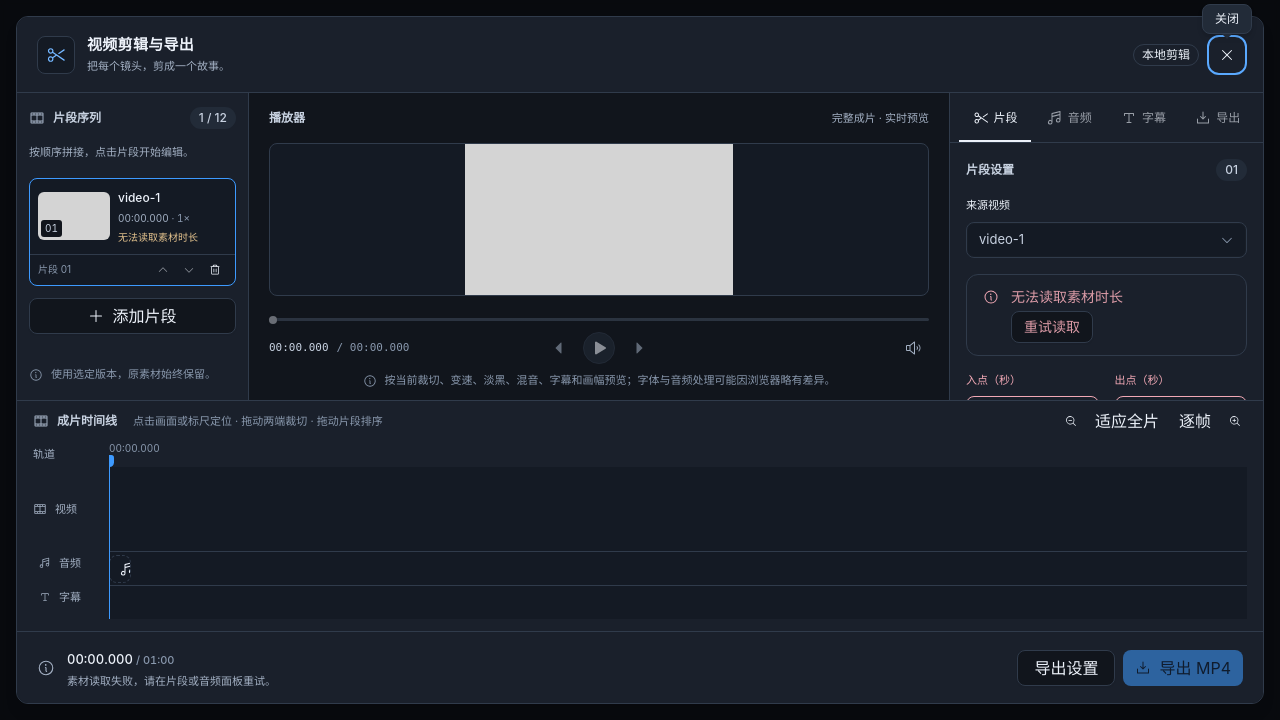
Test: VideoEditDialog › retries source metadata without discarding clip edits
Check: the message "无法读取素材时长 重试读取" is shown, box [966, 274, 1247, 356]
Click the tab "导出".
click(1218, 118)  # box [1181, 94, 1255, 142]
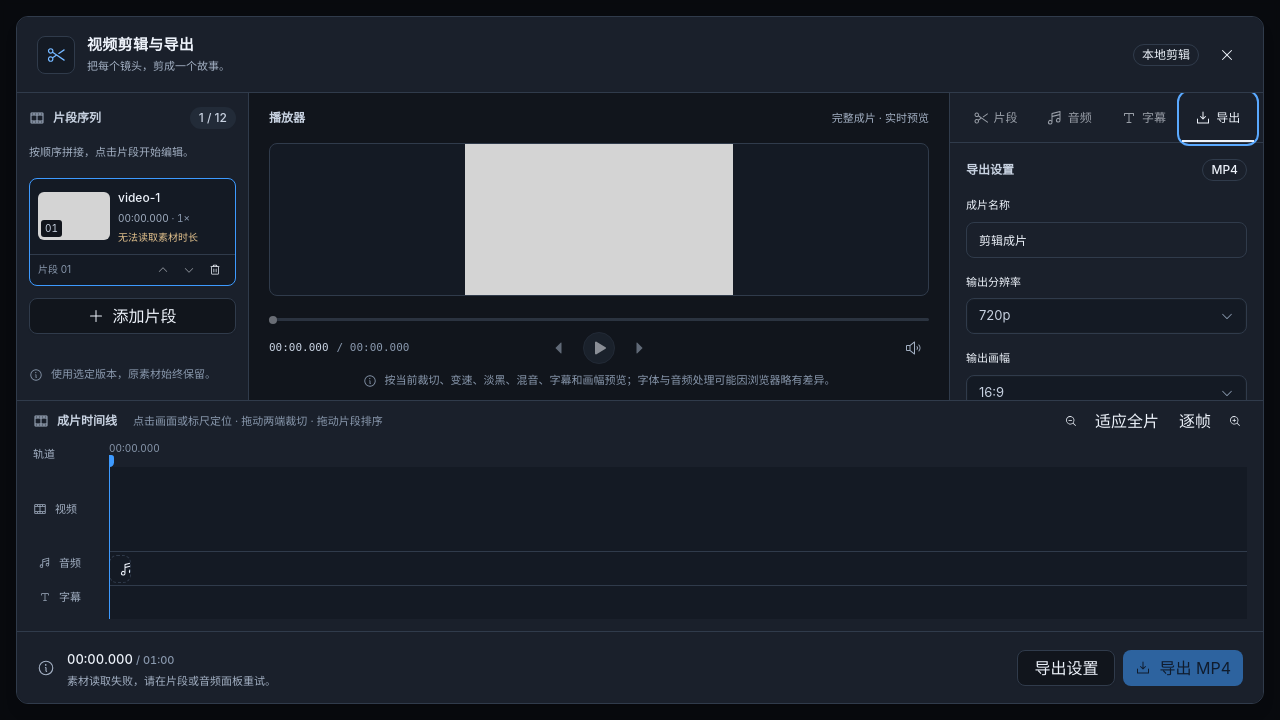
Replace the text in the field labelled "成片名称" with "保留的草稿" at (1106, 240), box [966, 222, 1247, 258]
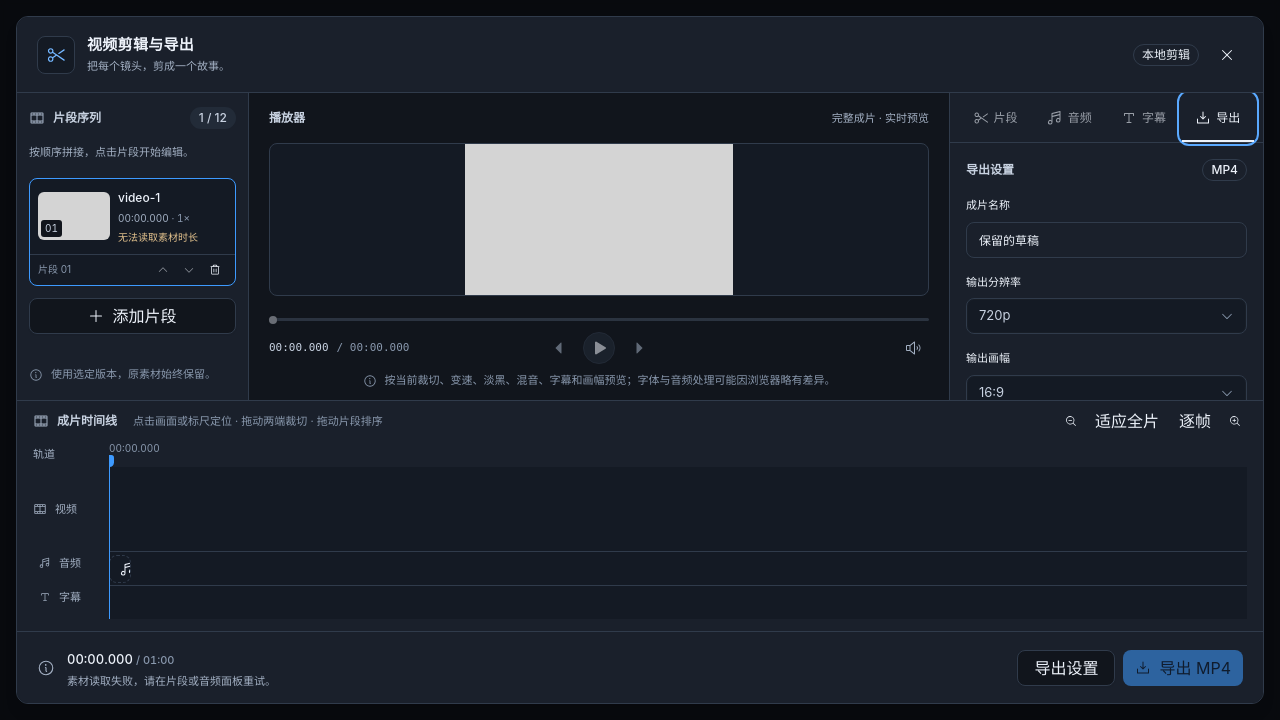
Click the tab "片段".
click(995, 118)  # box [958, 94, 1032, 142]
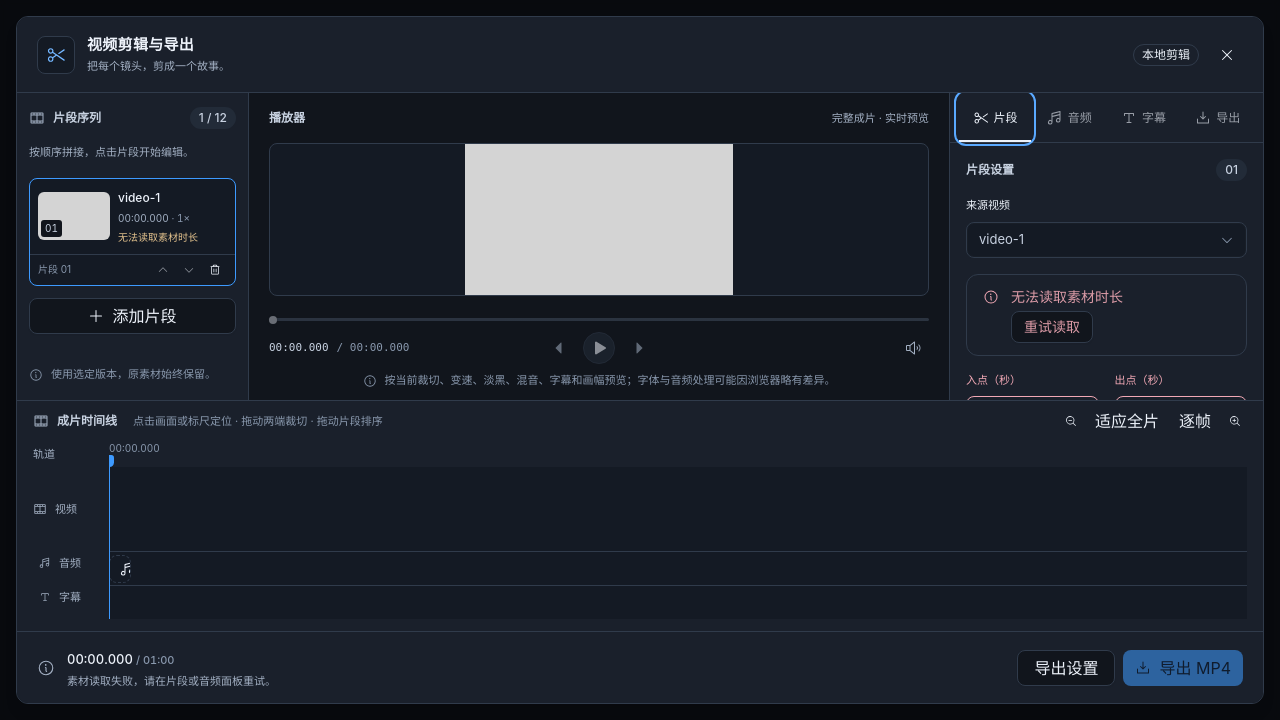
Click the button "重试读取".
click(1052, 326)  # box [1011, 310, 1093, 342]
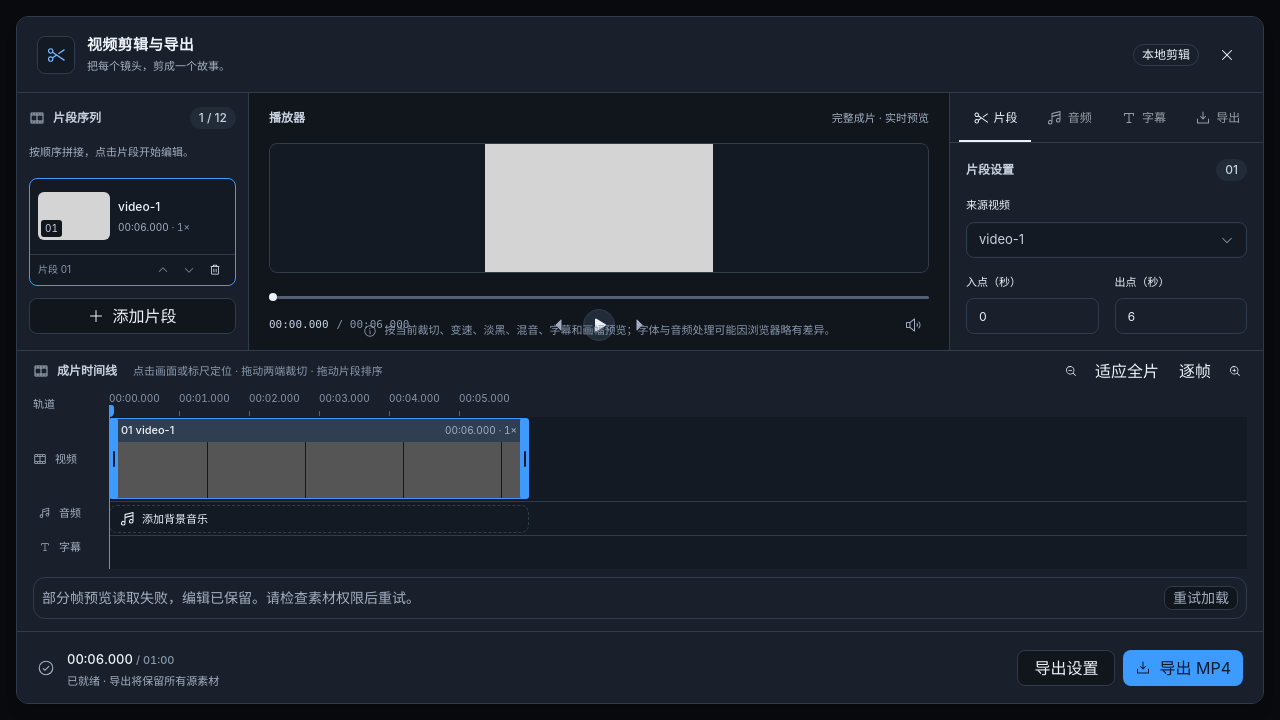
Check: the button "导出 MP4" is enabled, box [1124, 650, 1243, 686]
Click the tab "导出".
click(1218, 118)  # box [1181, 94, 1255, 142]
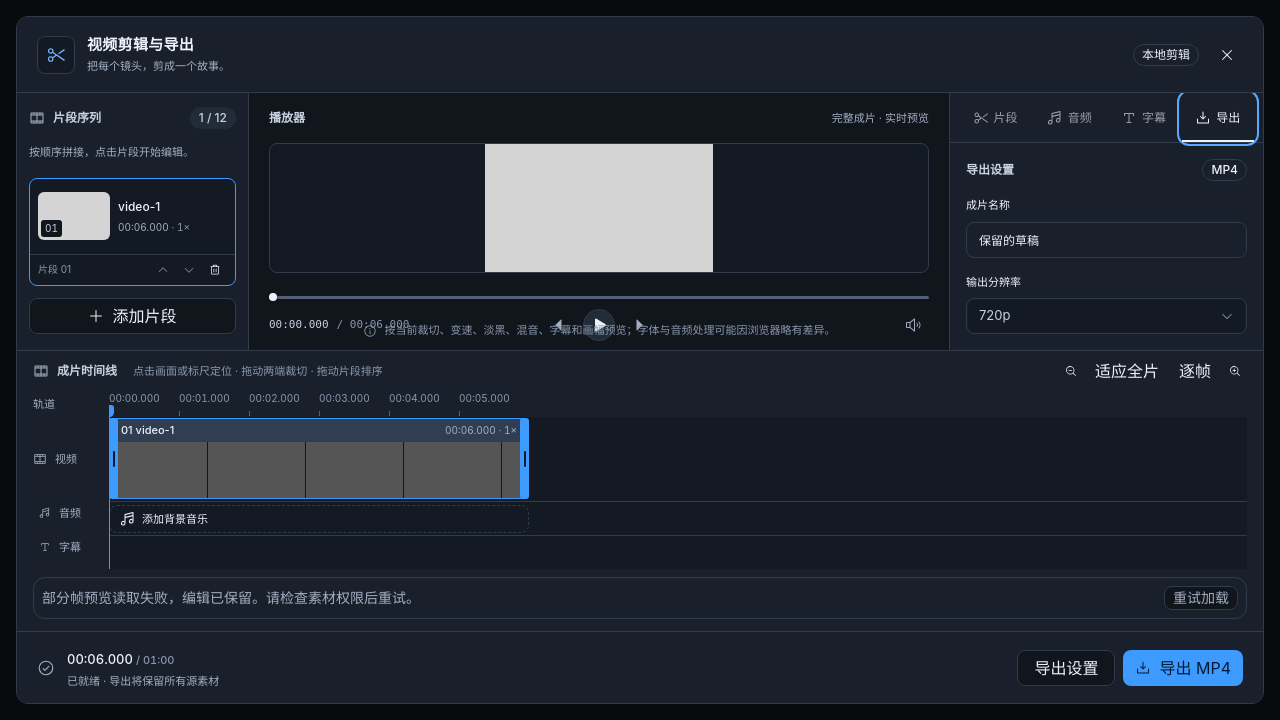
Check: the field labelled "成片名称" holds "保留的草稿", box [966, 222, 1247, 258]
